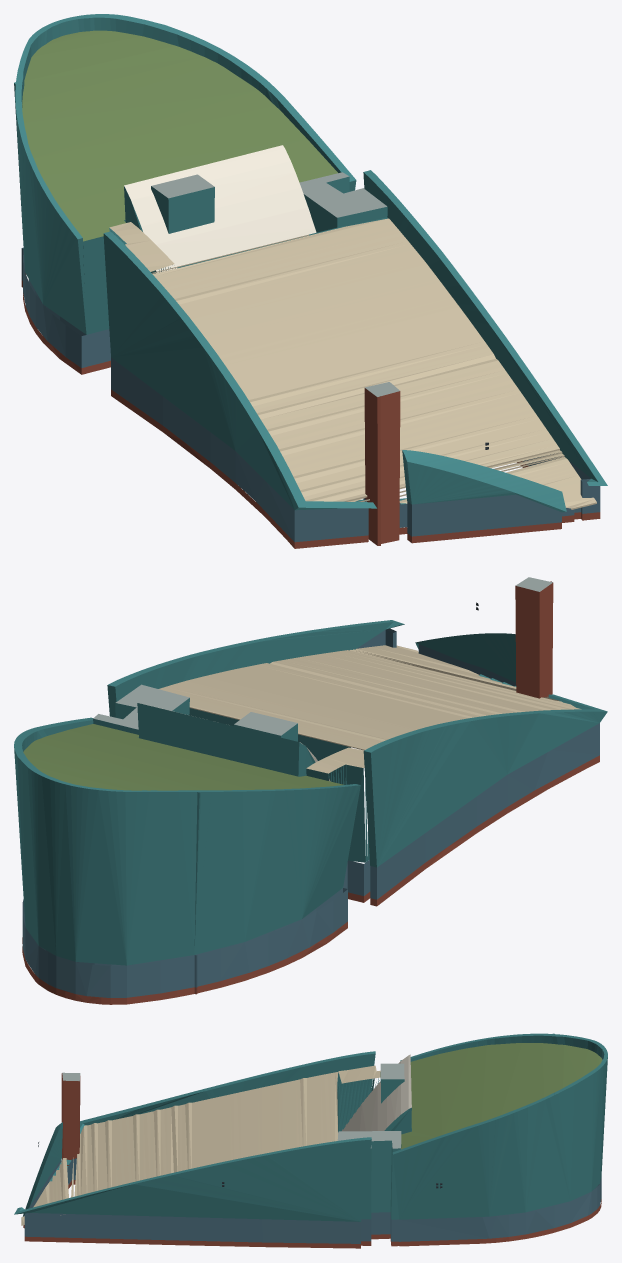
The model's file is nemo.lod1.glb.
3 renders of one model, top to bottom at view 1: azimuth 30°, elevation 25°; view 2: azimuth 150°, elevation 25°; view 3: azimuth 270°, elevation 25°, orthographic. The views are drawn at different scales.
Parts seen in each view (by area): view 1: nemo; view 2: nemo; view 3: nemo.
Part boxes in pixels (box(x1,y1,x2,y2)): nemo: box(14, 14, 607, 548); nemo: box(14, 577, 607, 1004); nemo: box(14, 1033, 607, 1248).
Bounding box in the file's own units: 44.83 × 32.58 × 117.
